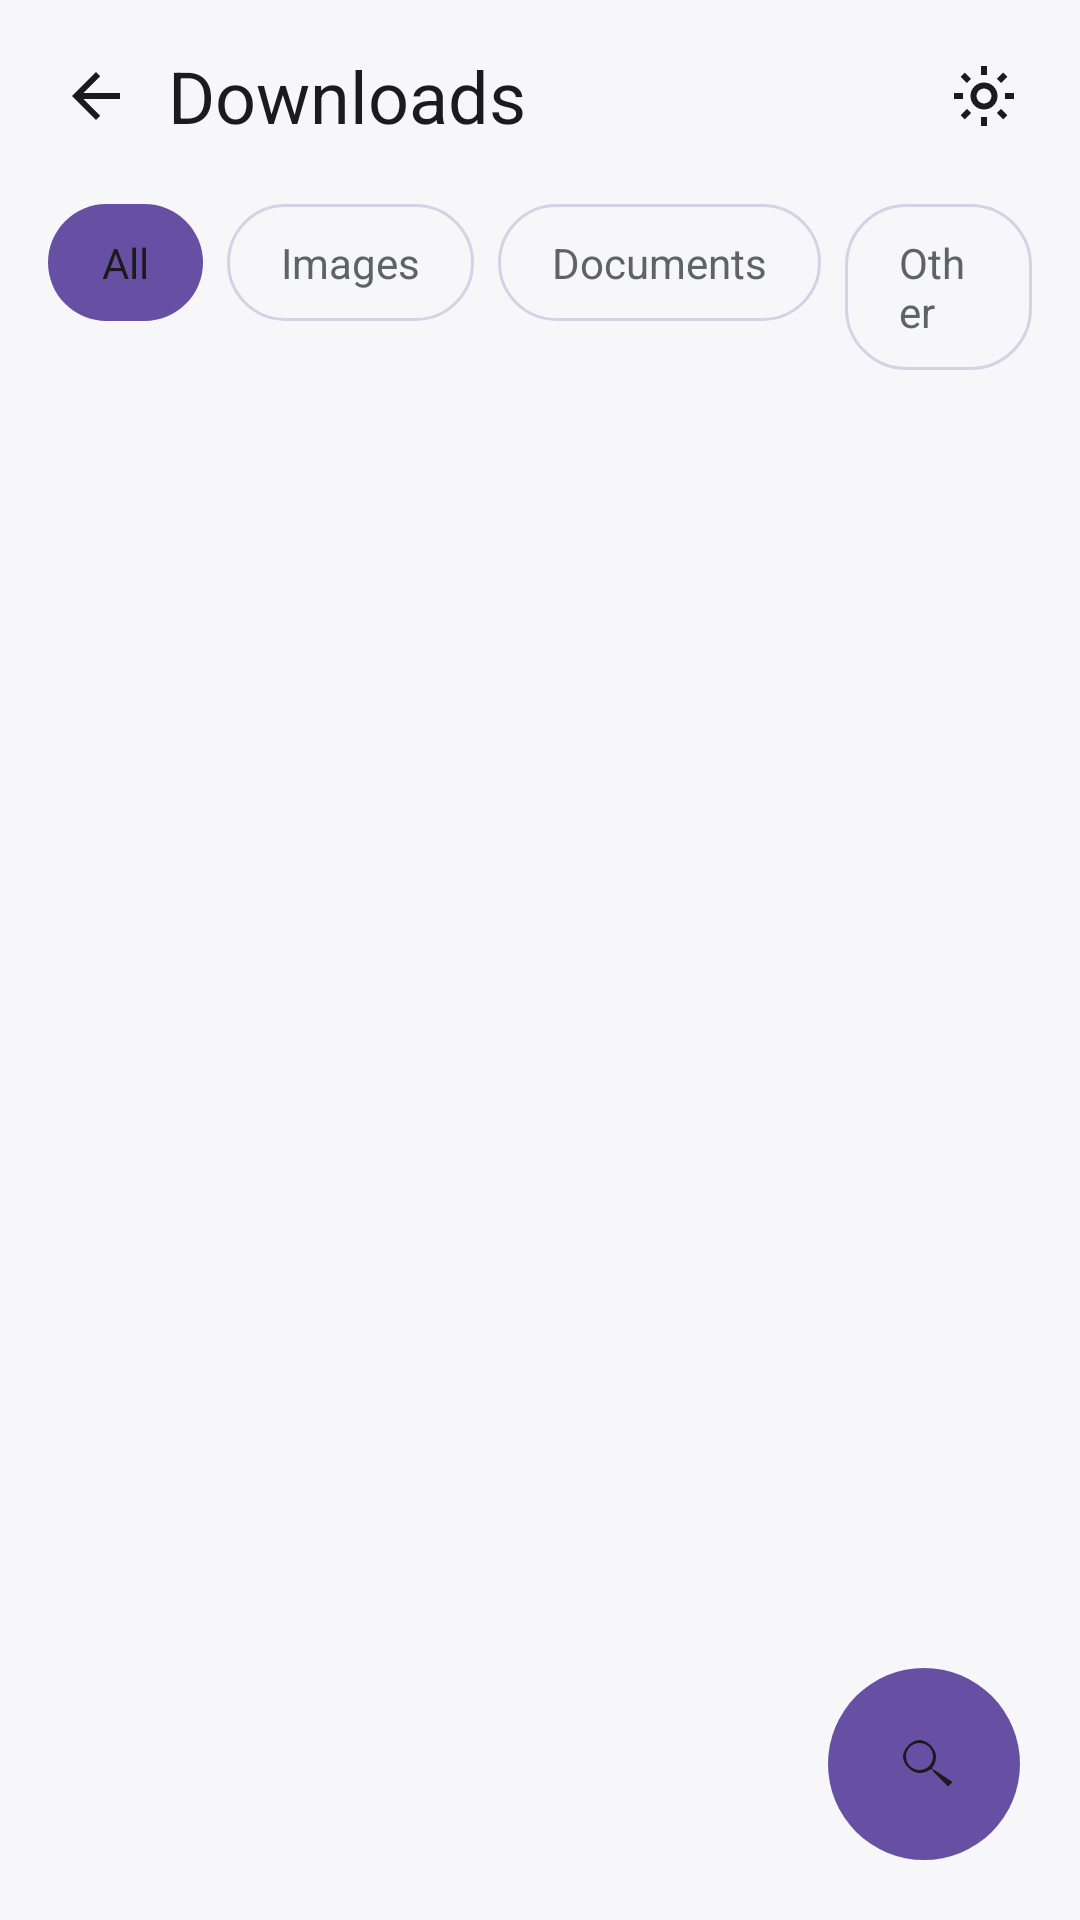

Screen size 1080 x 1920. Icon name, then its center in pixels as [x,y]:
Search downloads: [924,1764]
